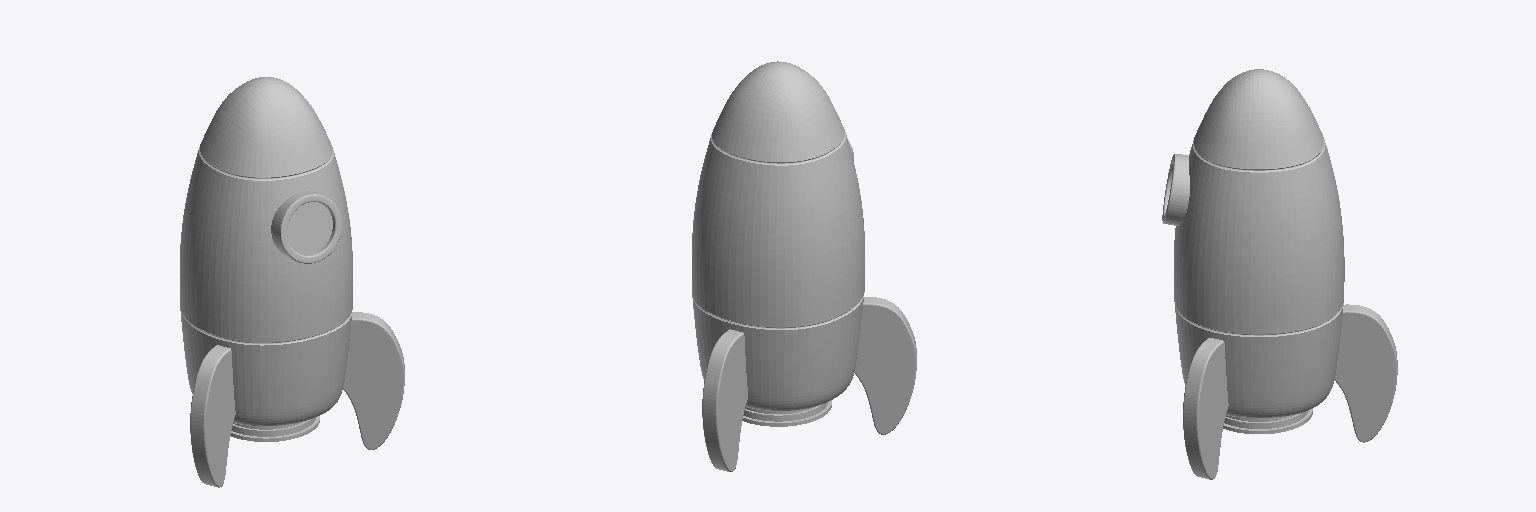
The model's file is rocket_colored.obj.
3 views of the same model, side by side, from view 1: azimuth 30°, elevation 25°; view 2: azimuth 150°, elevation 25°; view 3: azimuth 270°, elevation 25° (orthographic).
Parts seen in each view (by area): view 1: Cube.001, BezierCircle.004, BezierCircle, Cylinder; view 2: Cube.001, BezierCircle, BezierCircle.002; view 3: Cube.001, BezierCircle.002, BezierCircle.004, Cylinder.
Boxes of the visible parts, x1,y1,x2,y2 form: Cube.001: [180, 77, 352, 441]; BezierCircle.004: [343, 312, 404, 449]; BezierCircle: [190, 345, 235, 487]; Cylinder: [271, 191, 341, 263]; Cube.001: [692, 61, 864, 426]; BezierCircle: [855, 297, 916, 434]; BezierCircle.002: [702, 329, 747, 471]; Cube.001: [1174, 69, 1344, 433]; BezierCircle.002: [1335, 304, 1397, 442]; BezierCircle.004: [1183, 338, 1228, 479]; Cylinder: [1162, 154, 1189, 225].
Bounding box in the file's own units: 2.96 × 4.85 × 2.81.